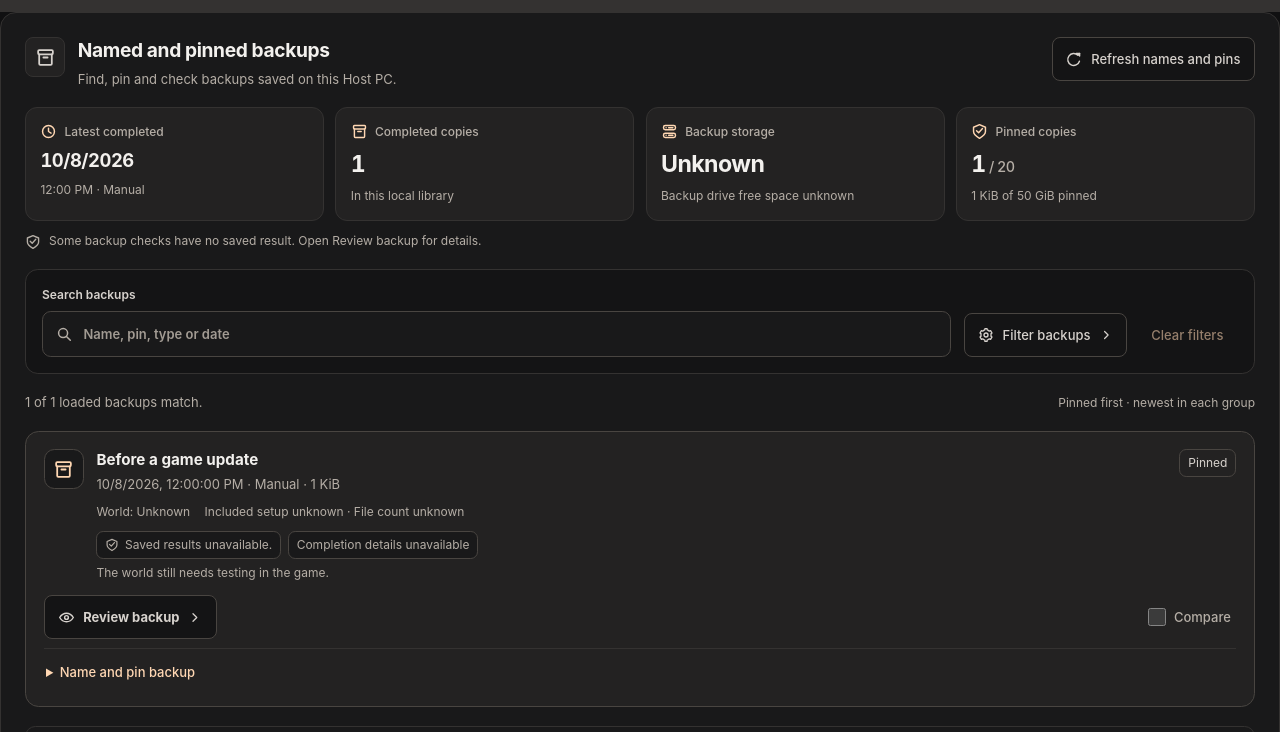
Scenario: BackupBookmarks › rejects another backup in a successful mutation and aborts an obsolete profile load
Expected: the text "Before a game update" is shown, [96,450,258,469]
Click the heading "Name and pin backup" at (127, 672), box [60,664,195,680]
(page scrolled)
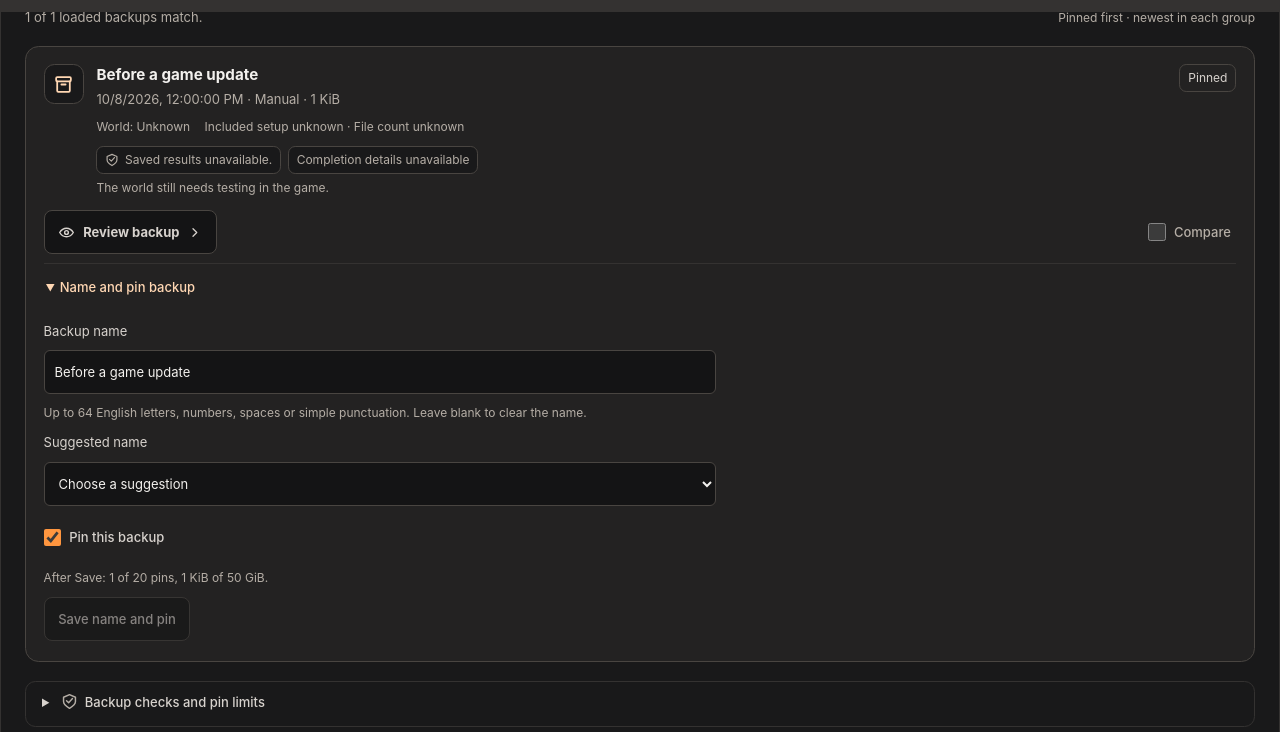
Type "Changed" into the field labelled "Backup name" at (380, 372), box [44,350,716,394]
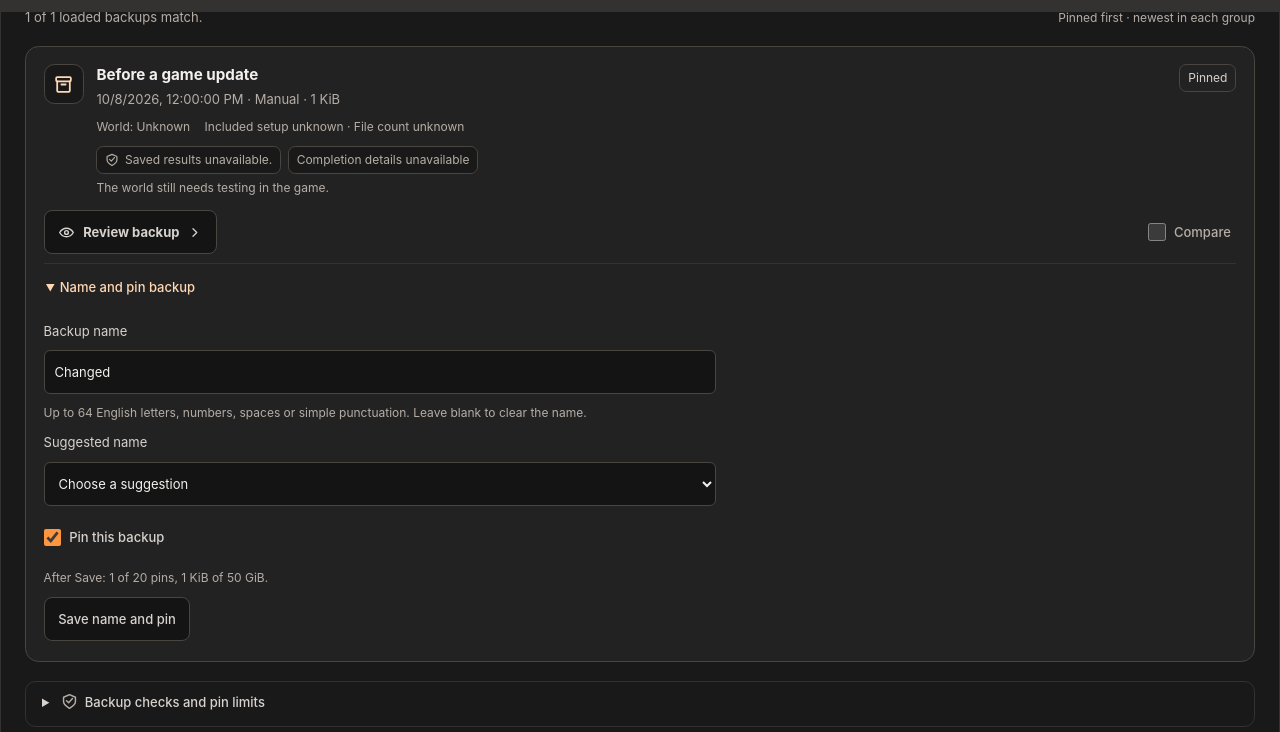
Click the button "Save name and pin" at (117, 619), box [44,597,190,641]
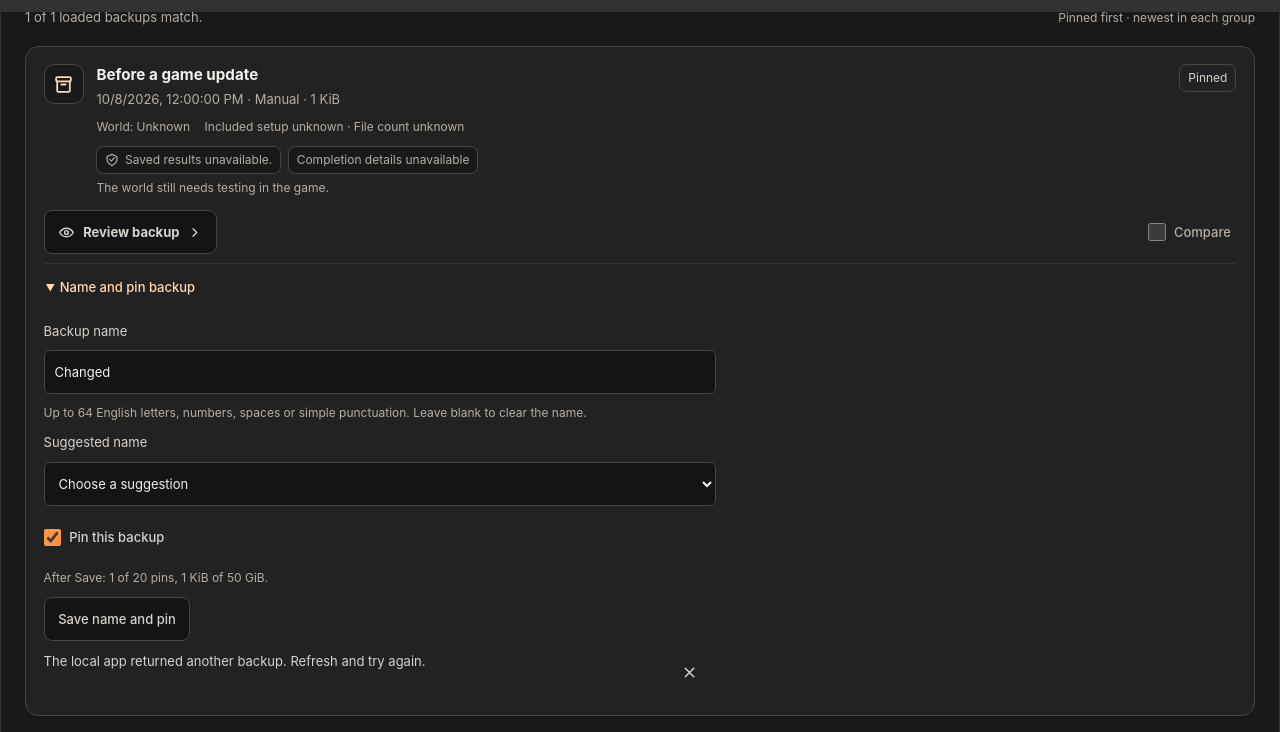
Now the message shows "another backup", box [44,653,426,669]
